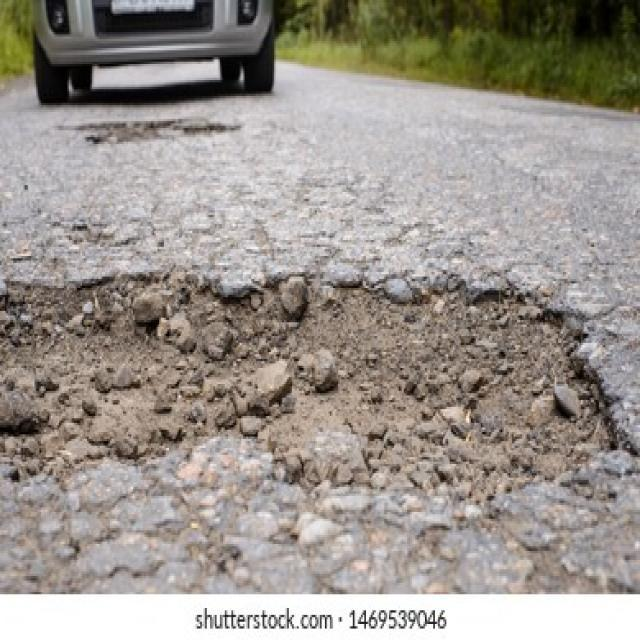Pothole: (0, 260, 629, 508), (56, 119, 244, 144)
